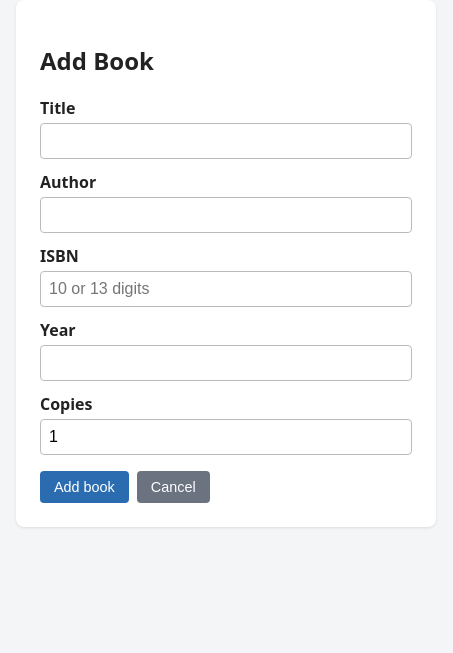
Test case: shows validation errors from the server
Click the button "Add book" at x=84, y=487, box [40,471,129,503]
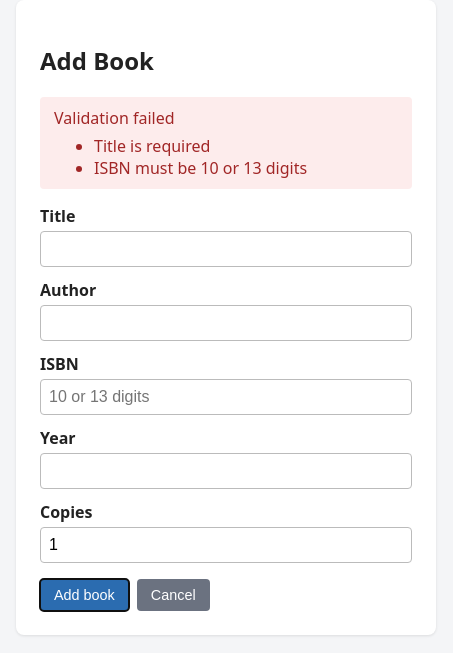
Now the message shows "Title is required", box [94,135,210,157]
Now the message shows "ISBN must be 10 or 13 digits", box [94,157,307,179]
